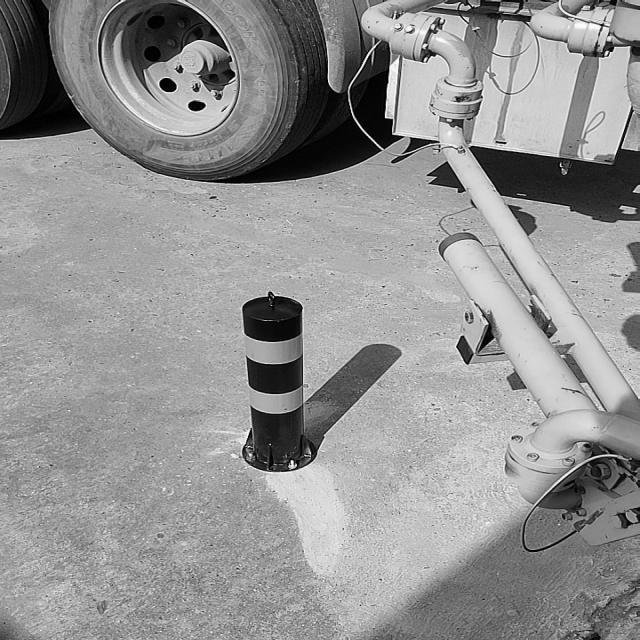truck: (2, 2, 638, 177)
warning_column: (232, 290, 318, 471)
